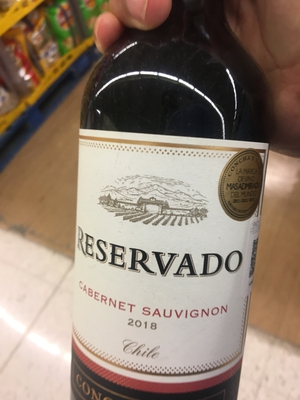reservado cabernet sauvignon: (71, 12, 270, 400)
